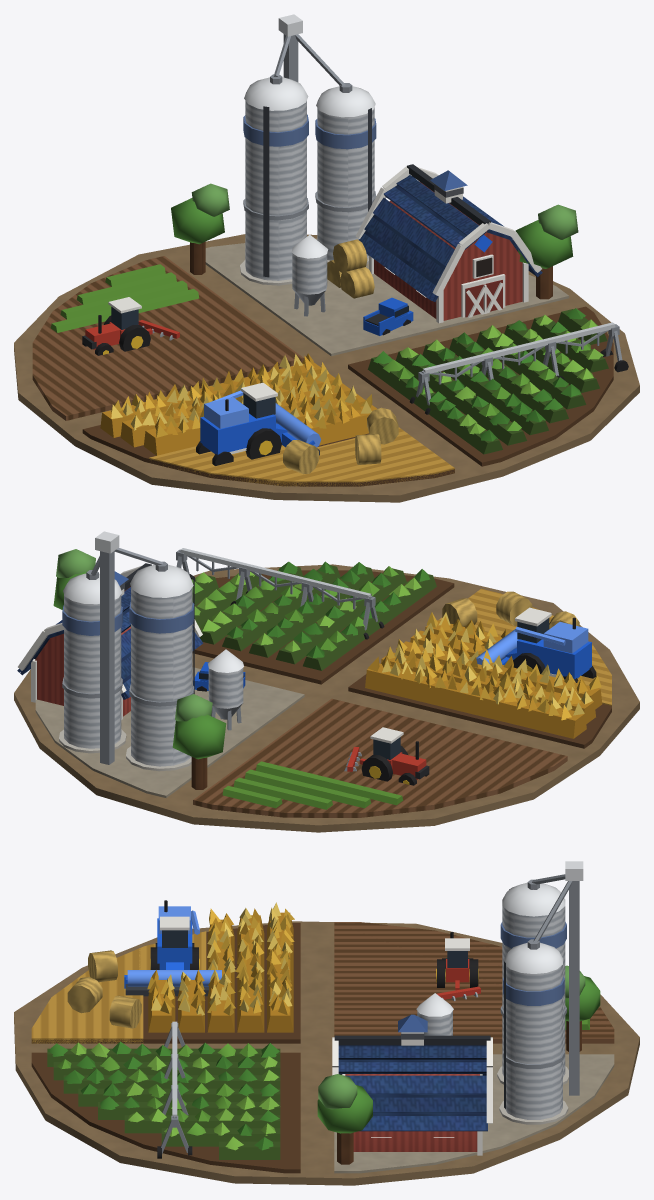
The model's file is farm_modern_blue.glb.
3 views of the same model, one above another, from view 1: azimuth 30°, elevation 25°; view 2: azimuth 150°, elevation 25°; view 3: azimuth 270°, elevation 25° (orthographic).
Parts seen in each view (by area): view 1: farm_modern_blue; view 2: farm_modern_blue; view 3: farm_modern_blue.
Part boxes in pixels (x1=…): farm_modern_blue: x1=14, y1=14, x2=639, y2=502; farm_modern_blue: x1=14, y1=531, x2=639, y2=832; farm_modern_blue: x1=14, y1=861, x2=639, y2=1185.
Bounding box in the file's own units: 1.36 × 0.585 × 1.4.
Materials: 2 (1 with a texture image).
